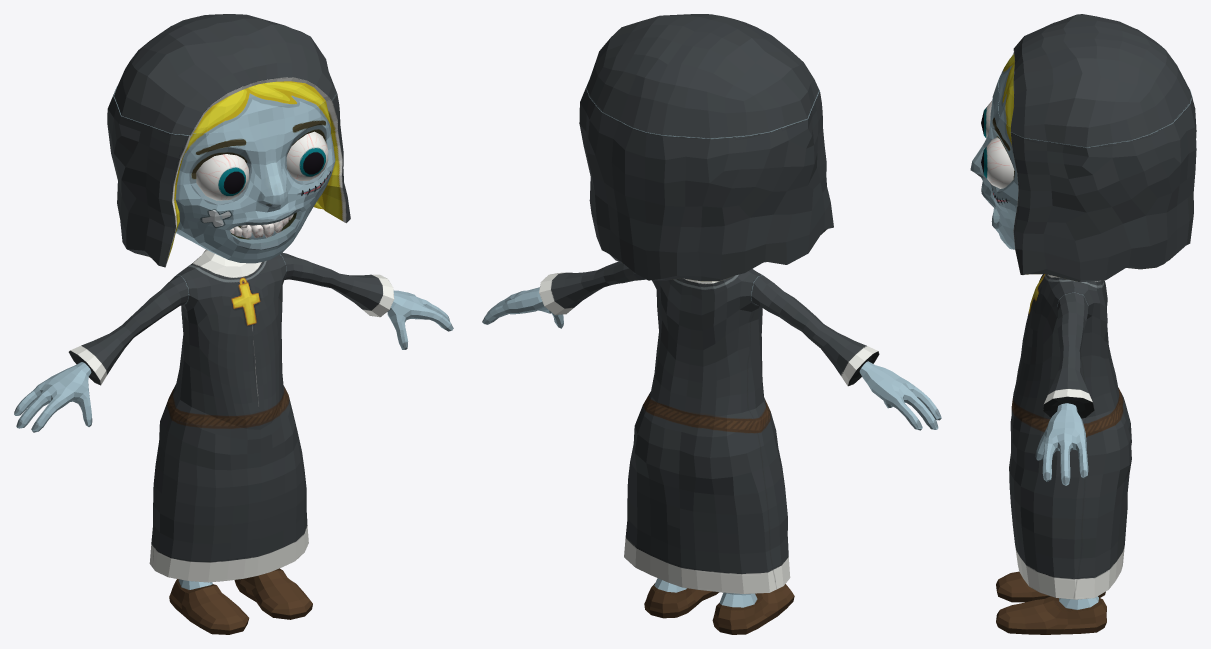
Rendered from Zombi5_5.fbx.
3 views of the same model, side by side, from view 1: azimuth 30°, elevation 25°; view 2: azimuth 150°, elevation 25°; view 3: azimuth 270°, elevation 25° (orthographic). The views are drawn at different scales.
Parts seen in each view (by area): view 1: body, cup_of_head, hand_r, hand_l, eye_L; view 2: body, cup_of_head, hand_r, hand_l; view 3: body, cup_of_head, hand_l, eye_L.
Part boxes in pixels (left/top/right/bottom): body: left=107, top=86, right=350, bottom=634; cup_of_head: left=114, top=14, right=336, bottom=135; hand_r: left=14, top=275, right=188, bottom=432; hand_l: left=280, top=252, right=453, bottom=349; eye_L: left=196, top=131, right=328, bottom=200; body: left=579, top=83, right=833, bottom=634; cup_of_head: left=586, top=14, right=819, bottom=138; hand_r: left=751, top=275, right=941, bottom=430; hand_l: left=482, top=261, right=645, bottom=328; body: left=970, top=76, right=1196, bottom=634; cup_of_head: left=998, top=14, right=1191, bottom=147; hand_l: left=1035, top=292, right=1094, bottom=485; eye_L: left=981, top=100, right=1014, bottom=188.
Bounding box in the file's own units: 0.9316 × 1.16 × 0.4139.
